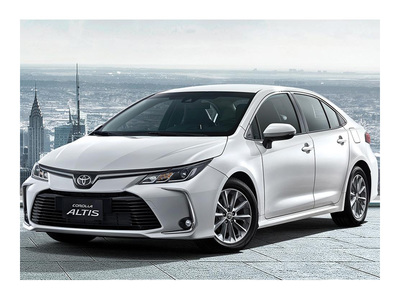sedan: (23, 83, 378, 251)
